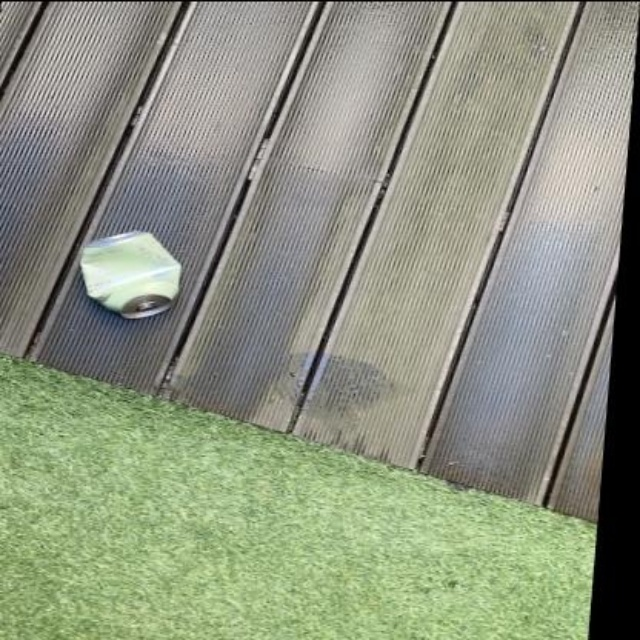trash: (80, 232, 180, 317)
